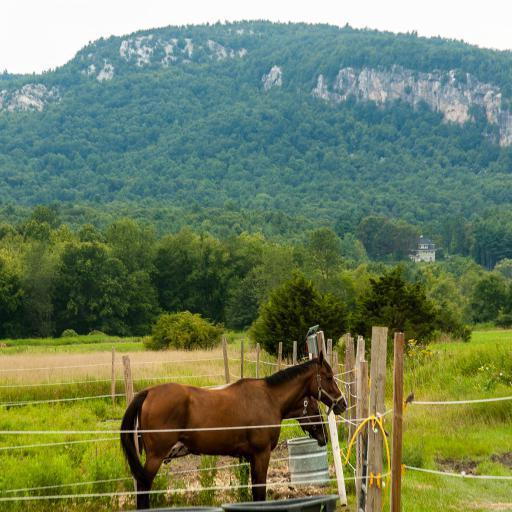horse: (118, 346, 349, 512), (137, 380, 330, 502)
